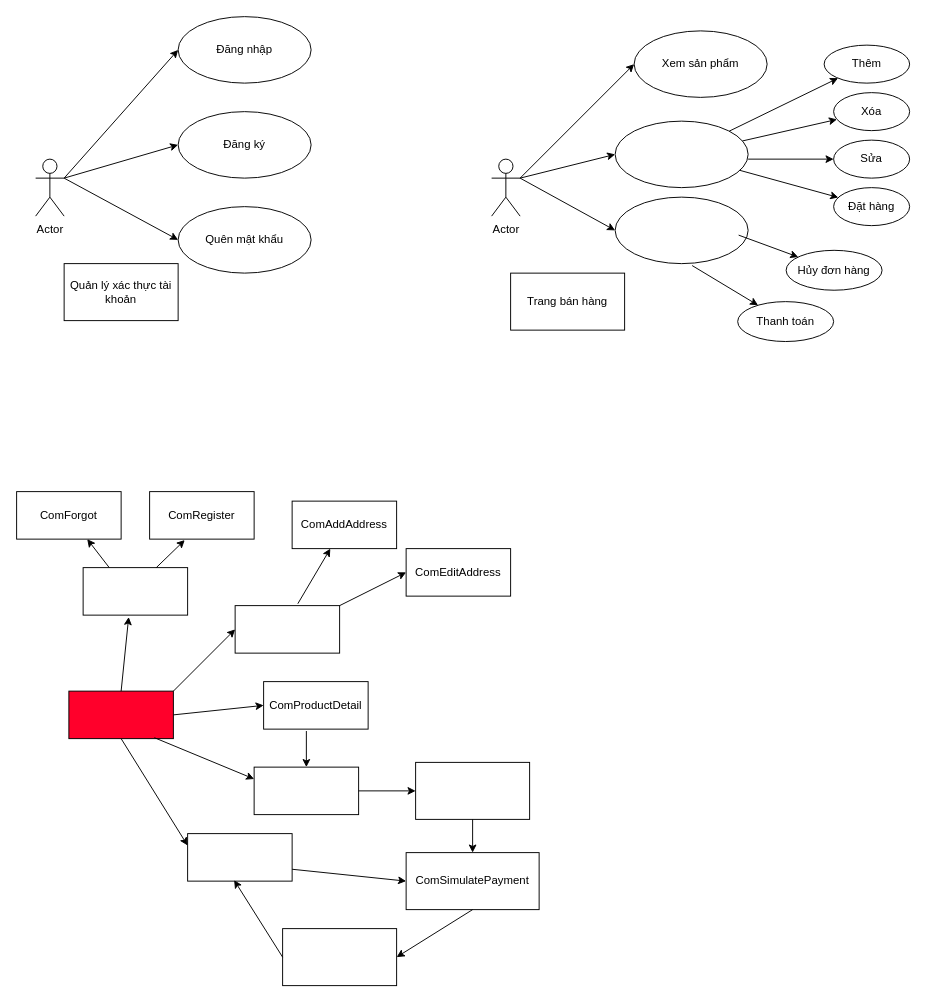
The diagram is 926 pixels wide and 1002 high, and some of its shapes have lost their labels. Here are the shapes that lost their labels. From the top down, the centre of each, then its label:
pixel 681 154: Giỏ hàng
pixel 681 230: Đơn hàng
pixel 135 591: ComLogin
pixel 287 629: ComProfile
pixel 120 714: ComHome
pixel 306 790: ComCart
pixel 472 790: ComPayment
pixel 239 857: ComOrder
pixel 339 957: ComPaymentCheck
